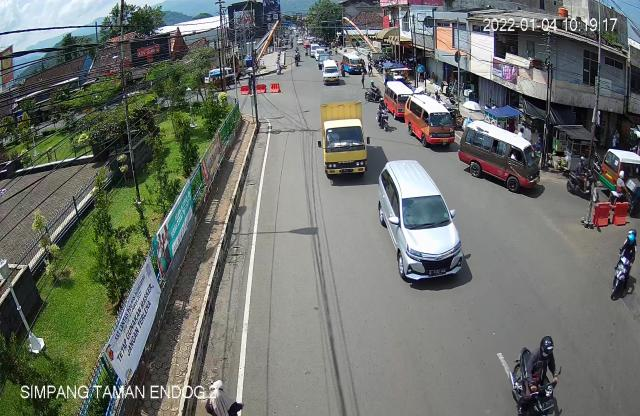Mobil: (377, 158, 469, 291), (459, 116, 543, 198), (407, 97, 459, 150), (601, 148, 640, 202), (383, 79, 414, 122)
Motor: (506, 331, 566, 416), (604, 224, 640, 305), (566, 151, 604, 203), (375, 96, 394, 133)
Truk: (312, 86, 370, 186)
